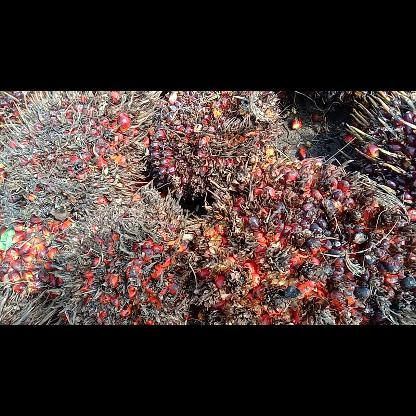Terlalu masak: (193, 154, 415, 324), (45, 178, 199, 324), (0, 91, 152, 230), (146, 91, 286, 205)
